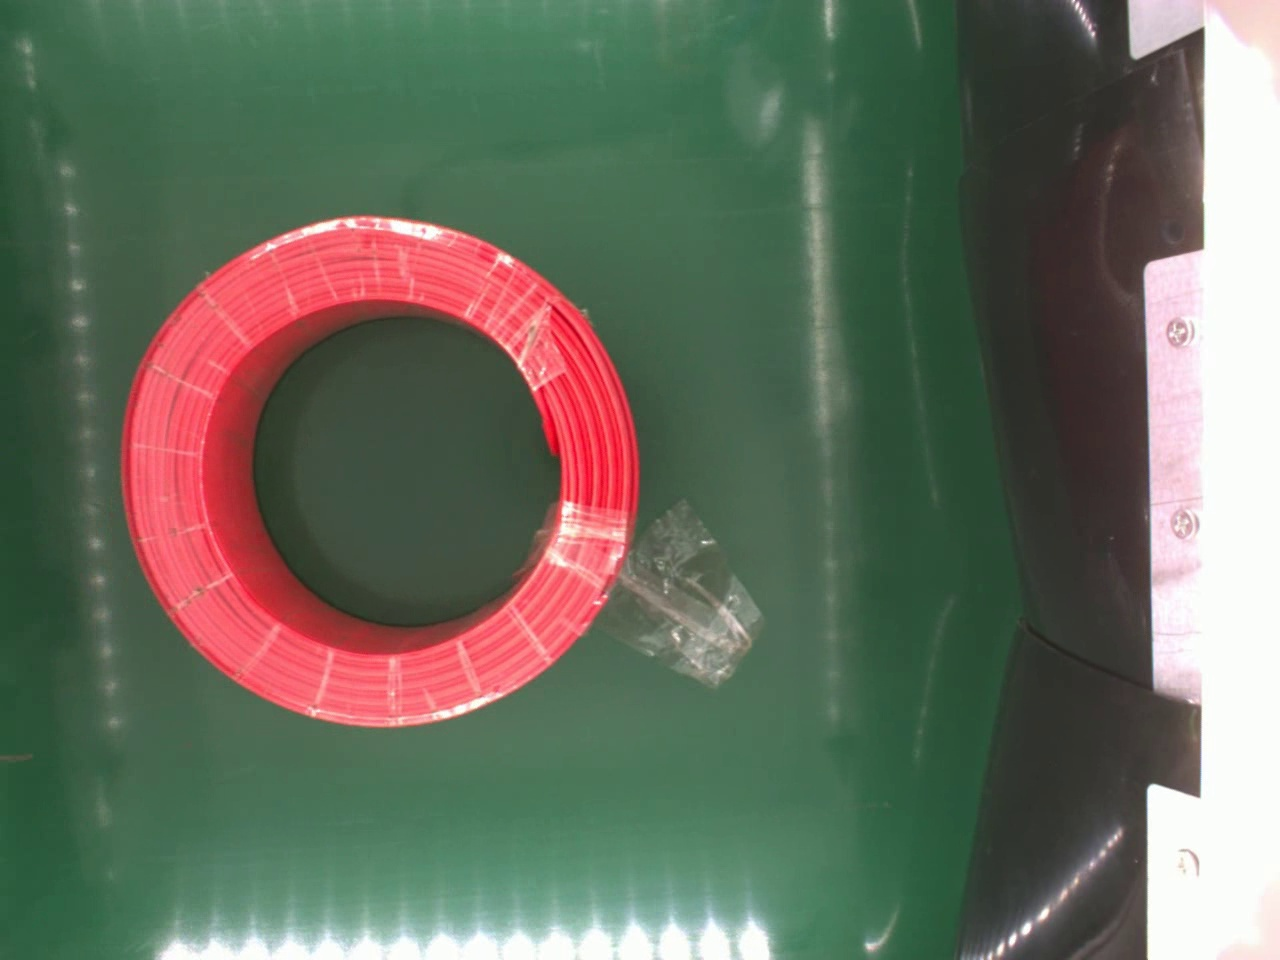red: (117, 210, 638, 729)
